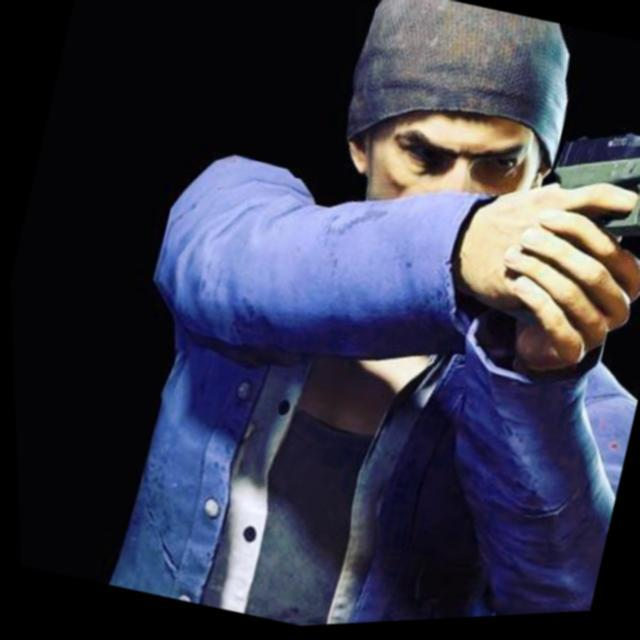weapon: (505, 78, 640, 350)
